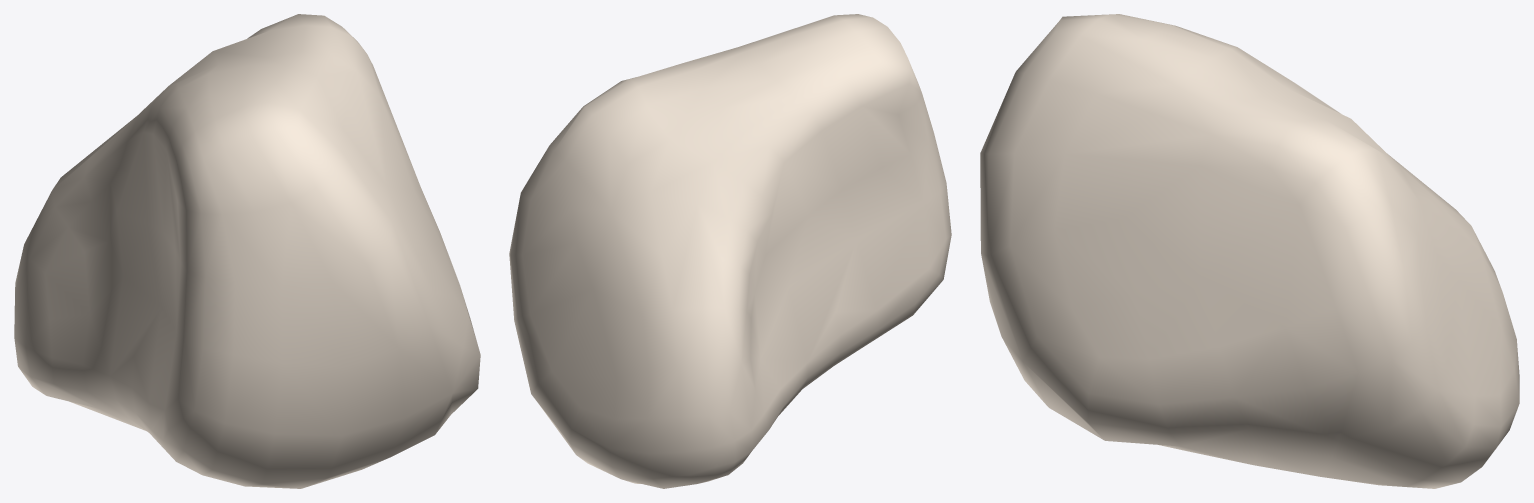
Rendered from left_trapezoid.glb.
The picture shows the model from 3 angles, left to right: view 1: azimuth 30°, elevation 25°; view 2: azimuth 150°, elevation 25°; view 3: azimuth 270°, elevation 25°; orthographic projection. The views are drawn at different scales.
Parts seen in each view (by area): view 1: Trapezoid.r; view 2: Trapezoid.r; view 3: Trapezoid.r.
Boxes of the visible parts, box(x1,y1,x2,y2) form: Trapezoid.r: box(14, 14, 480, 488); Trapezoid.r: box(509, 14, 951, 488); Trapezoid.r: box(980, 14, 1519, 488).
Bounding box in the file's own units: 0.00866 × 0.00989 × 0.0116.
